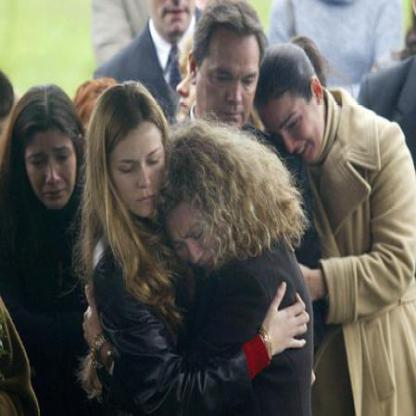face: (199, 21, 261, 140), (111, 106, 169, 219), (172, 180, 230, 283), (25, 110, 77, 211), (268, 66, 317, 173), (176, 52, 208, 128)
